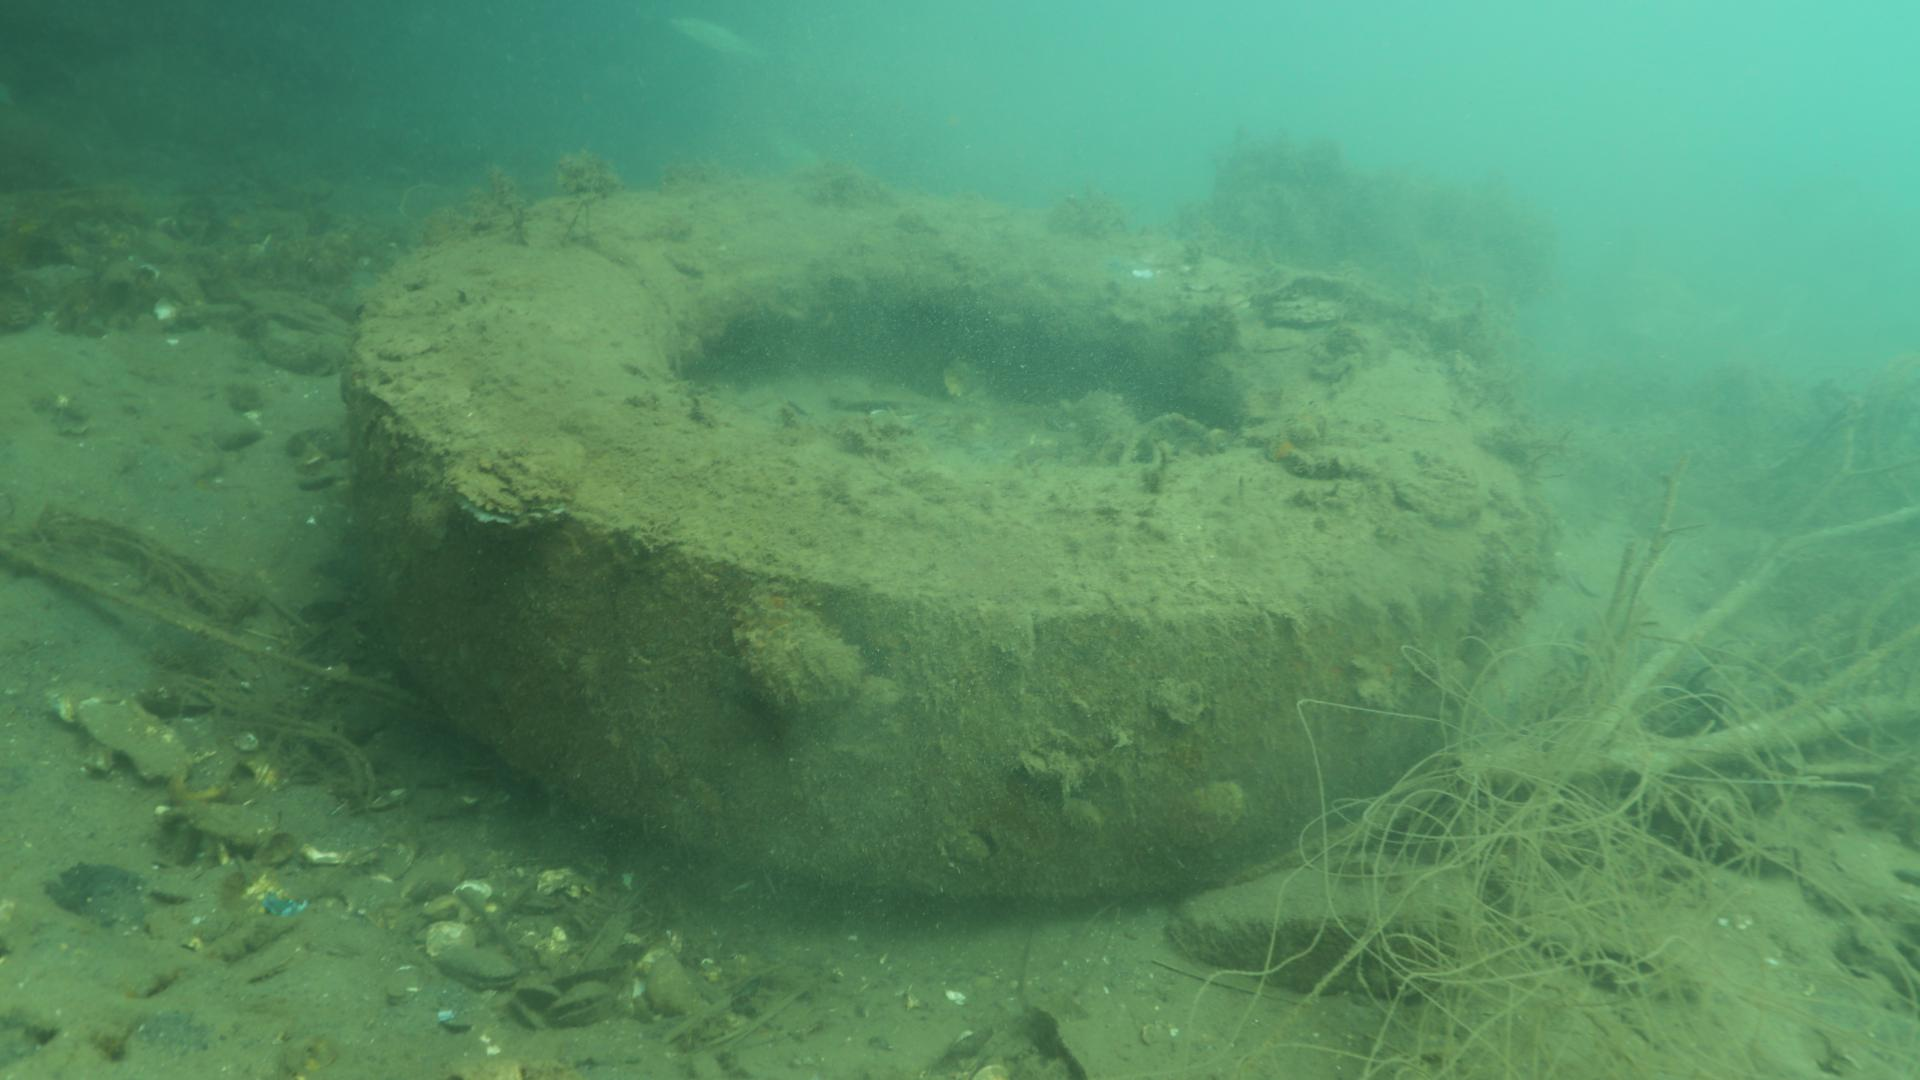tire: (342, 179, 1523, 890)
